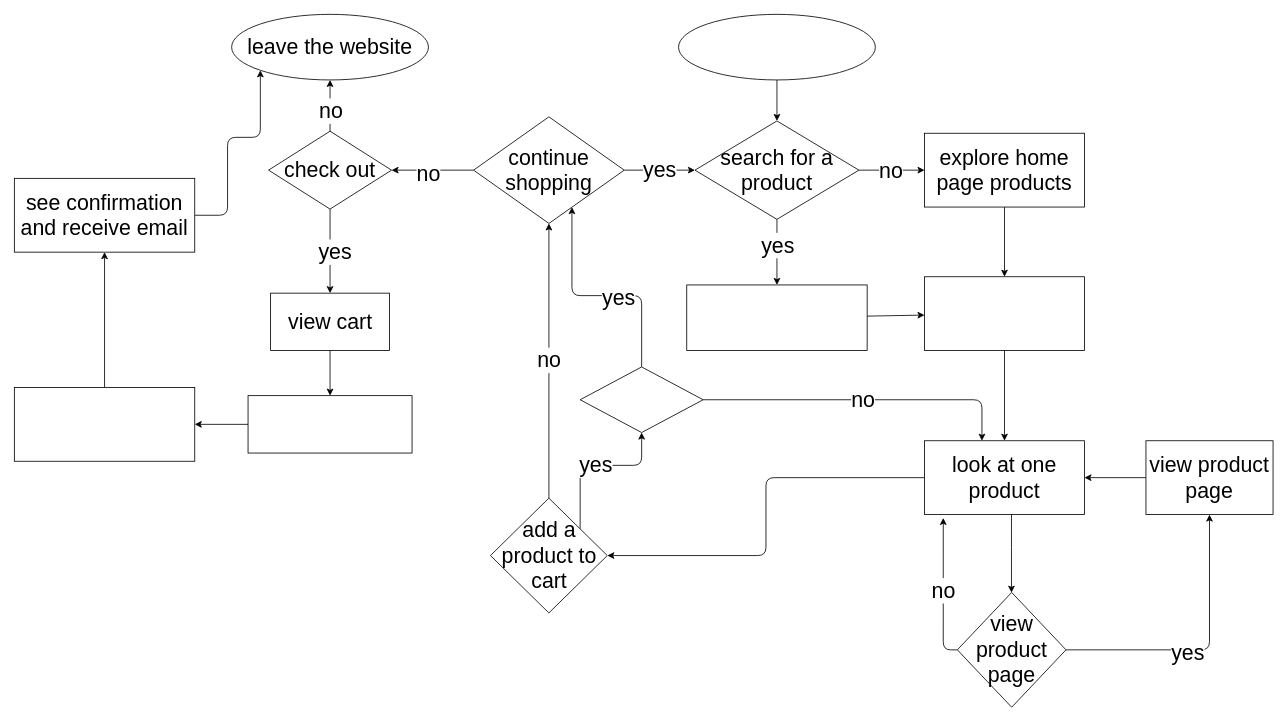
Image size: 1287x722. Some labels were removed from this diagram. The box of each missing label's shape, as (x1, y1, x2, y2) in pixels:
confirm: (579, 366, 703, 433)
enter the website: (678, 14, 875, 80)
explore searched products: (686, 284, 867, 351)
input payment information: (14, 387, 195, 461)
look over the products: (924, 276, 1084, 351)
view payment: (247, 395, 412, 453)
